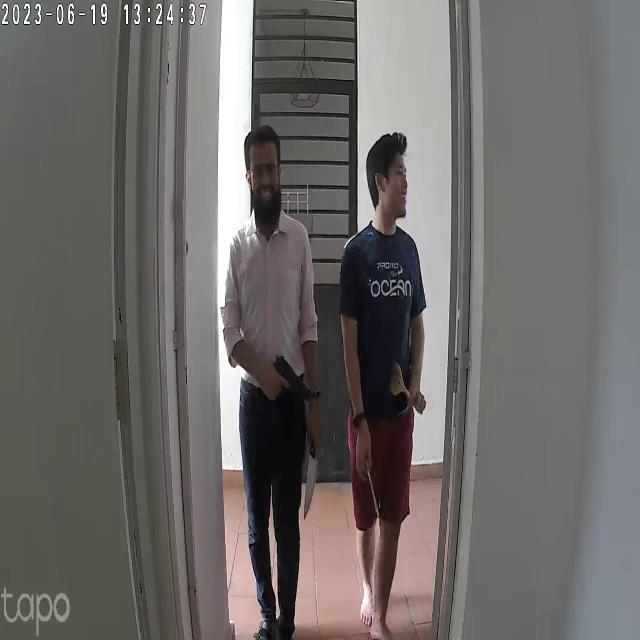Gun: (253, 351, 322, 403)
Knife: (352, 462, 388, 528), (300, 434, 328, 518)
